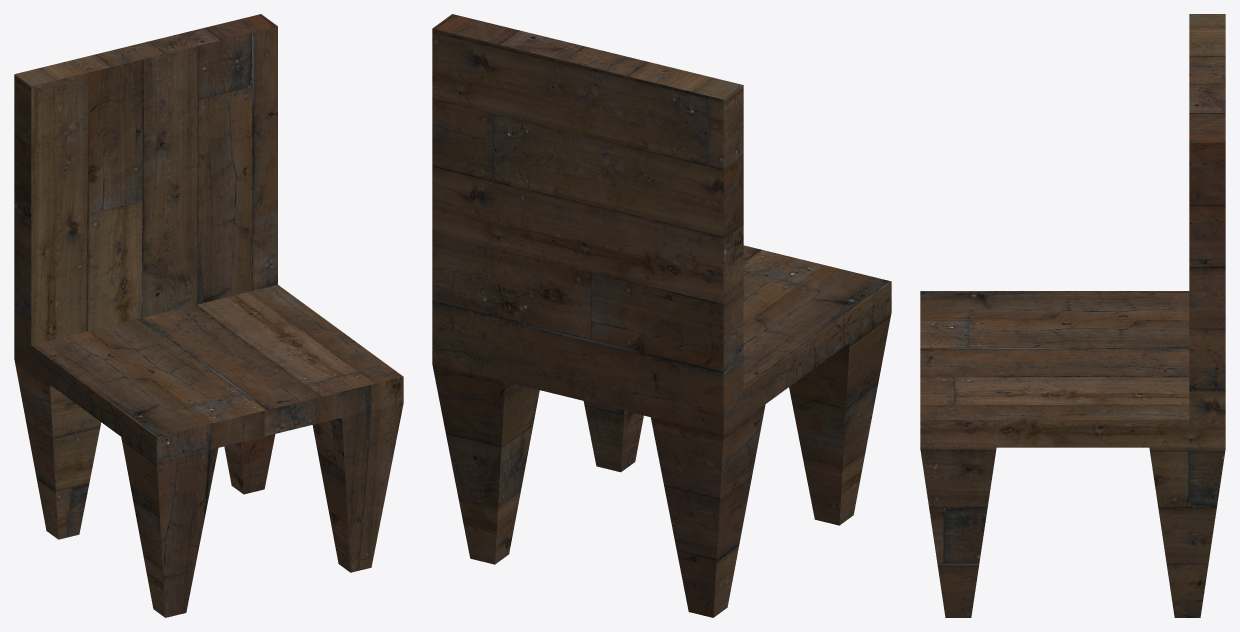
Rendered from uglychair.fbx.
3 views of the same model, side by side, from view 1: azimuth 30°, elevation 25°; view 2: azimuth 150°, elevation 25°; view 3: azimuth 270°, elevation 25° (orthographic). The views are drawn at different scales.
Parts seen in each view (by area): view 1: Cube; view 2: Cube; view 3: Cube.
Part boxes in pixels (left/top/right/bottom): Cube: left=14, top=14, right=403, bottom=617; Cube: left=432, top=14, right=891, bottom=617; Cube: left=920, top=14, right=1225, bottom=617.
Bounding box in the file's own units: 200 × 351 × 200.
1 material, 1 textured.
